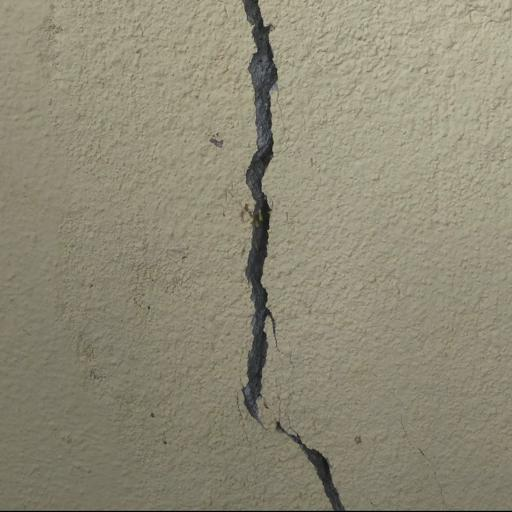major_crack: (223, 0, 354, 512)
